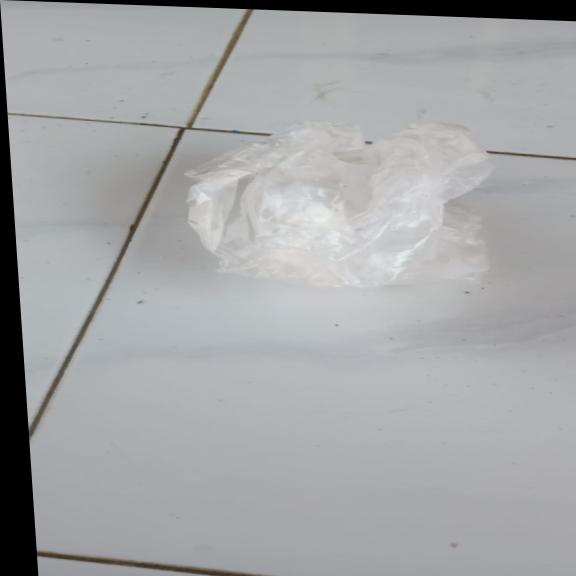Plastik: (182, 110, 506, 297)
